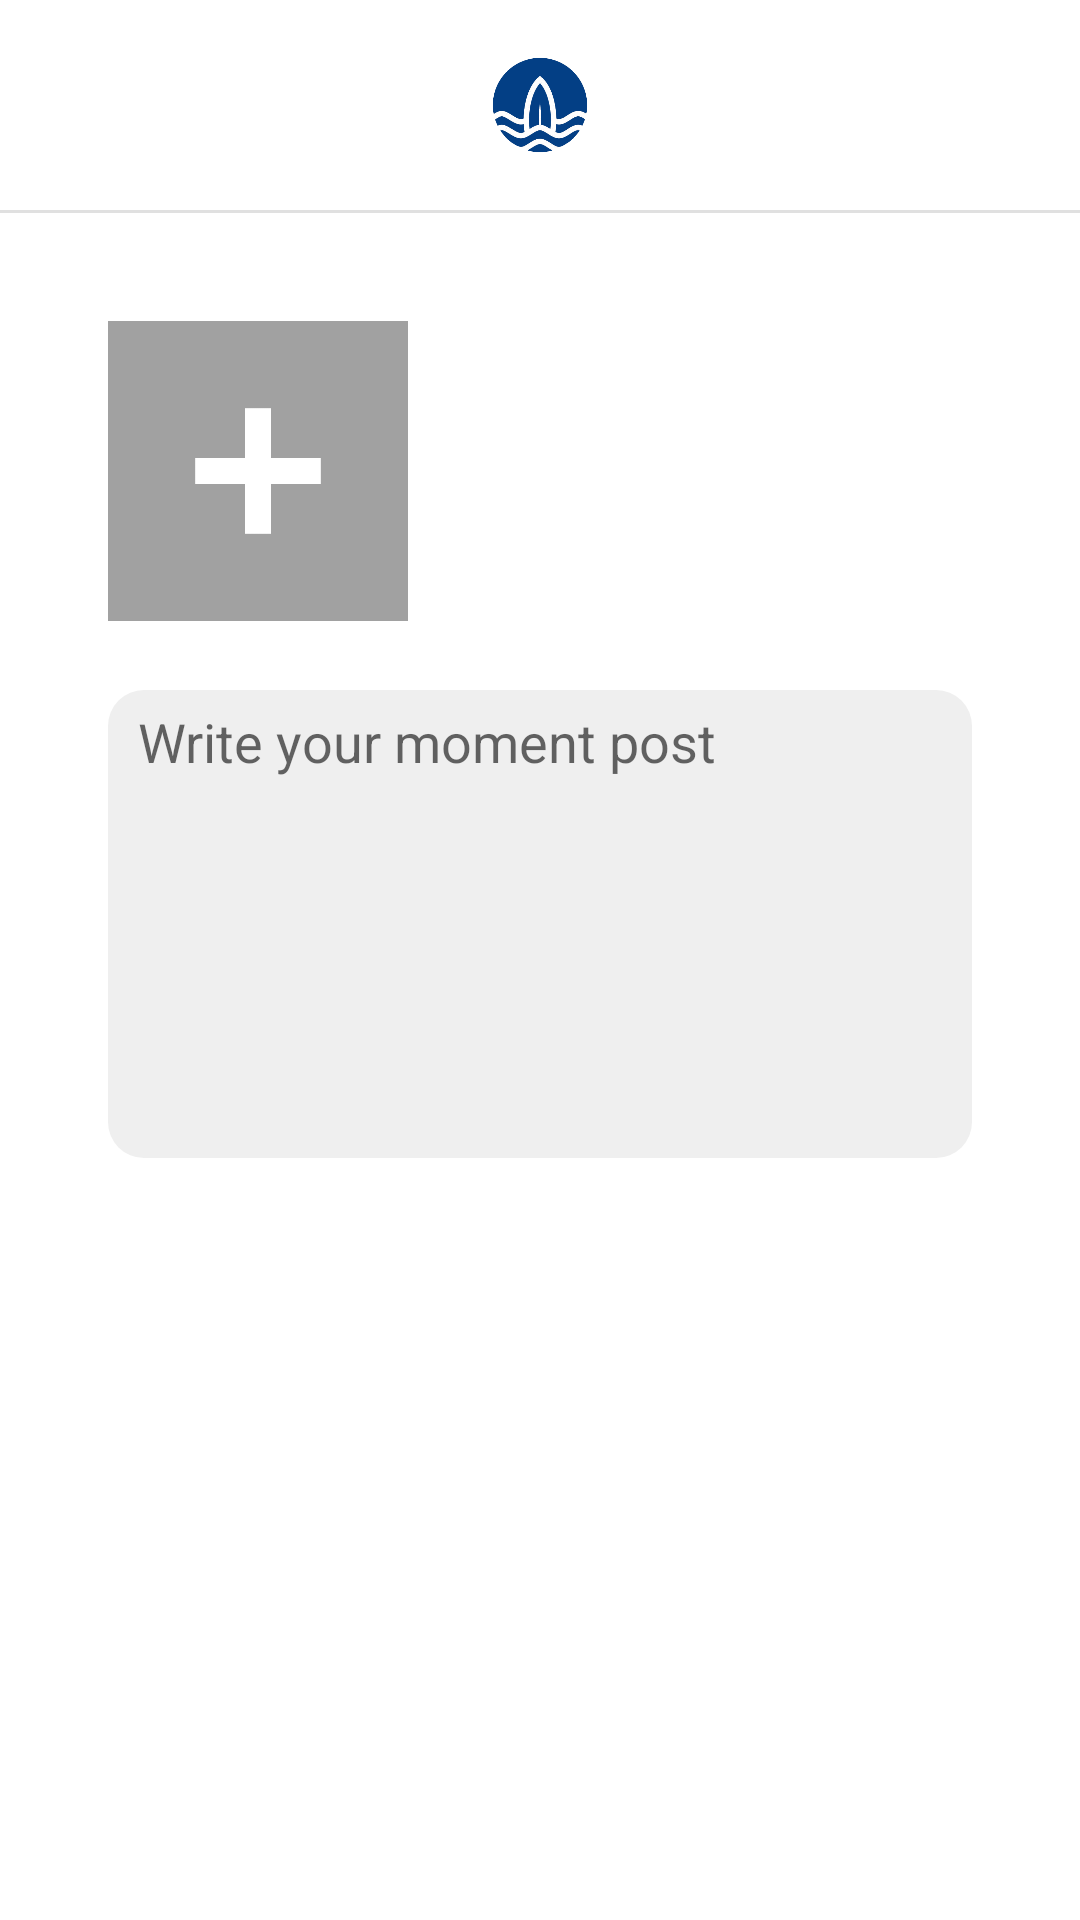

Screen size 1080x1920. Icon name, then its box in pixels as bbox=(x1, y1, x2, y2):
add: bbox=(108, 321, 408, 621)
